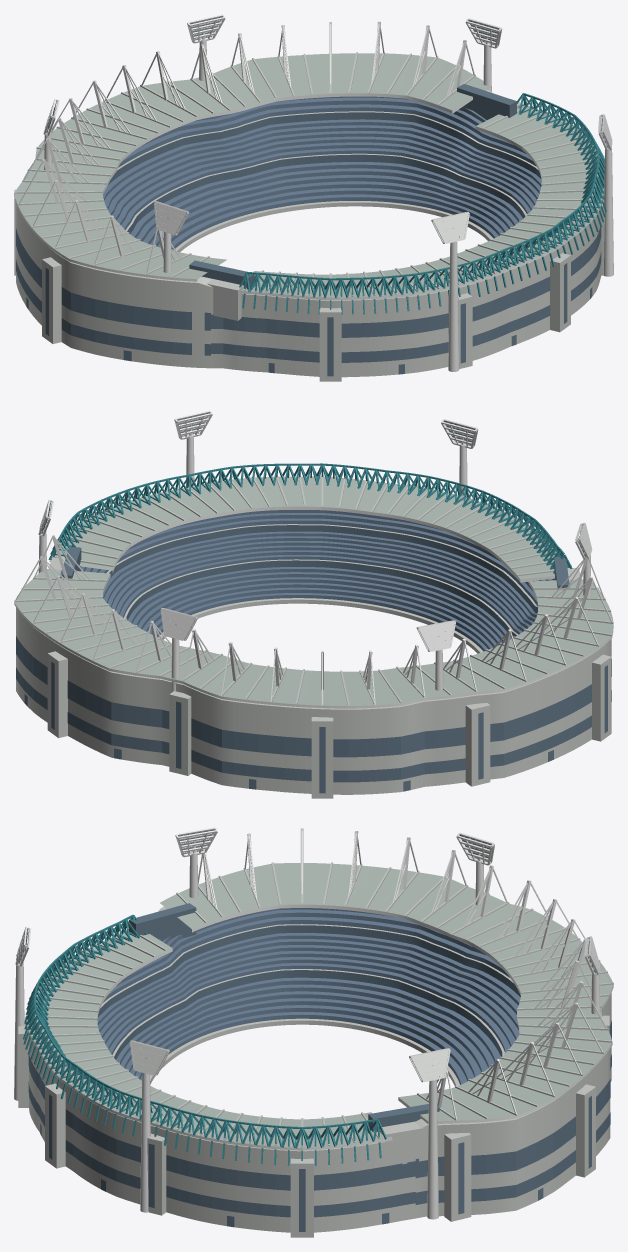
Rendered from melbourne-mcg.detail.glb.
3 renders of one model, top to bottom at view 1: azimuth 30°, elevation 25°; view 2: azimuth 150°, elevation 25°; view 3: azimuth 270°, elevation 25°, orthographic. The views are drawn at different scales.
Parts seen in each view (by area): view 1: Melbourne Cricket Ground; view 2: Melbourne Cricket Ground; view 3: Melbourne Cricket Ground.
Boxes of the visible parts, x1=… form: Melbourne Cricket Ground: x1=14, y1=14, x2=613, y2=381; Melbourne Cricket Ground: x1=14, y1=410, x2=613, y2=798; Melbourne Cricket Ground: x1=14, y1=827, x2=613, y2=1237.
Bounding box in the file's own units: 317 × 84.94 × 284.
